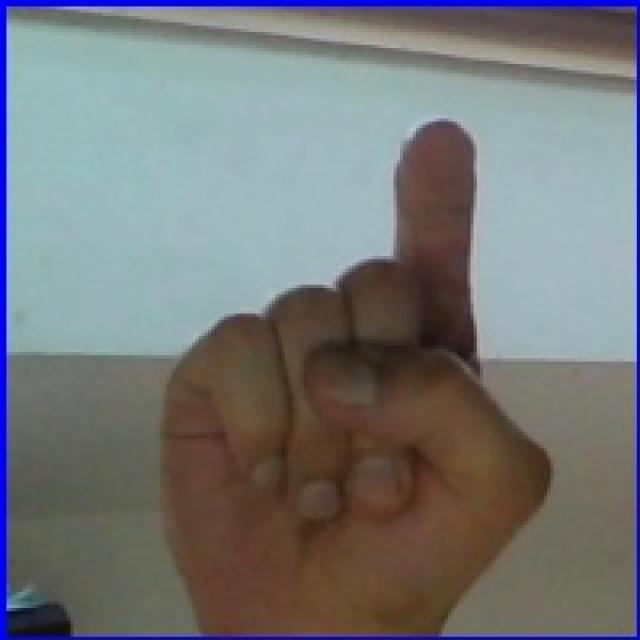X: (121, 93, 601, 632)
